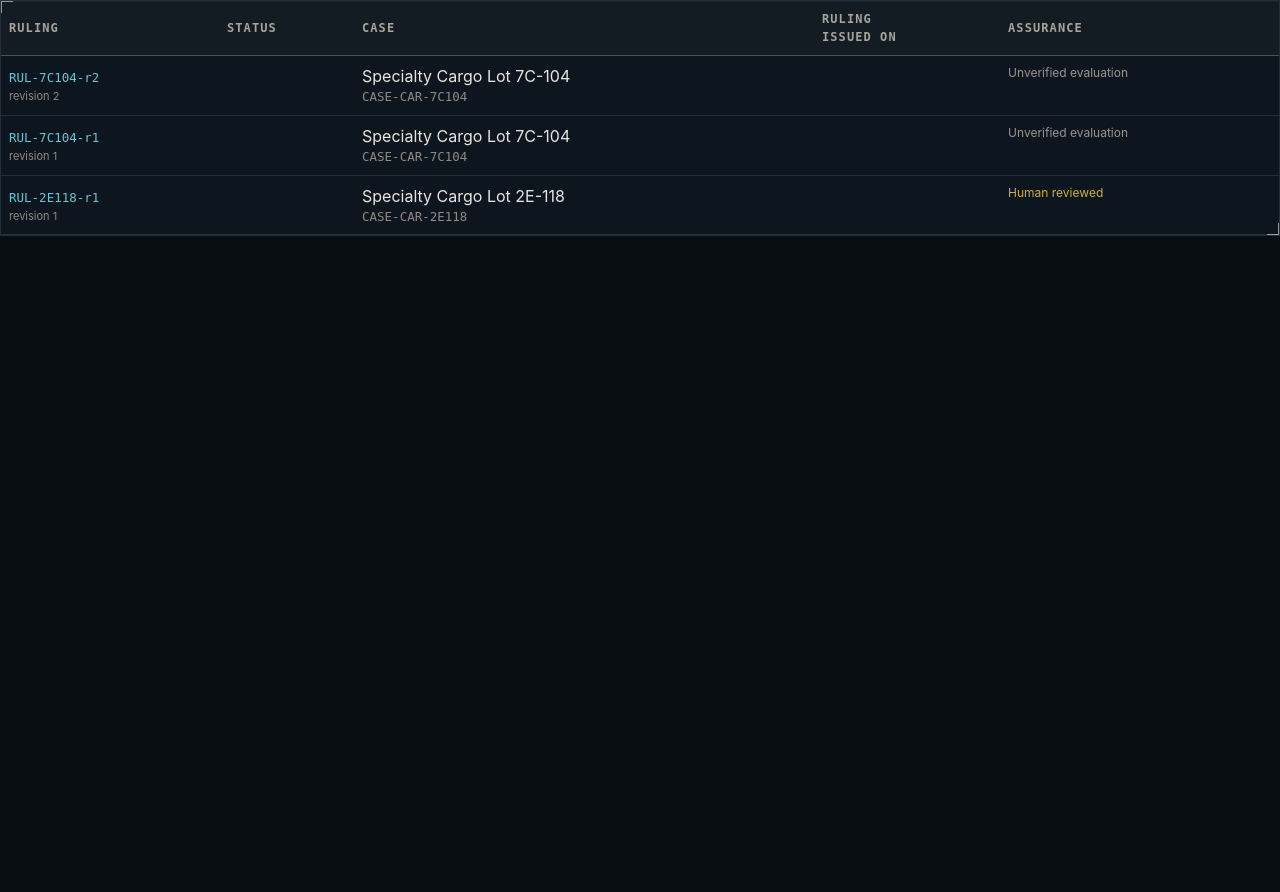
a ruling is never edited, so the chain is walked › shows the recorded reason with the link it explains
Click the button "RUL-7C104-r2 revision 2": click(110, 84) [9,64,211,104]
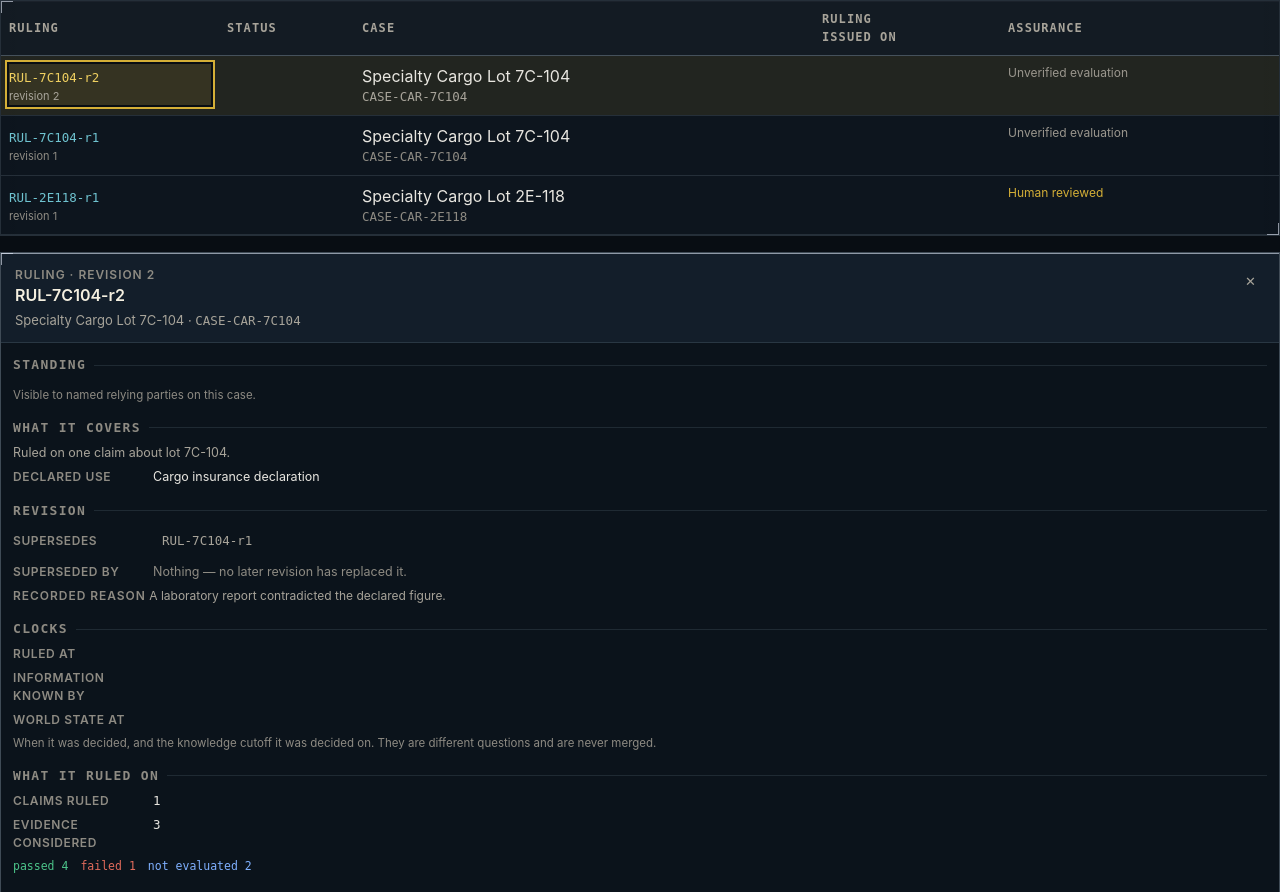
Result: the element with test id "inspector-transition" shows "A laboratory report contradicted the declared figure." at [149,588,446,603]
